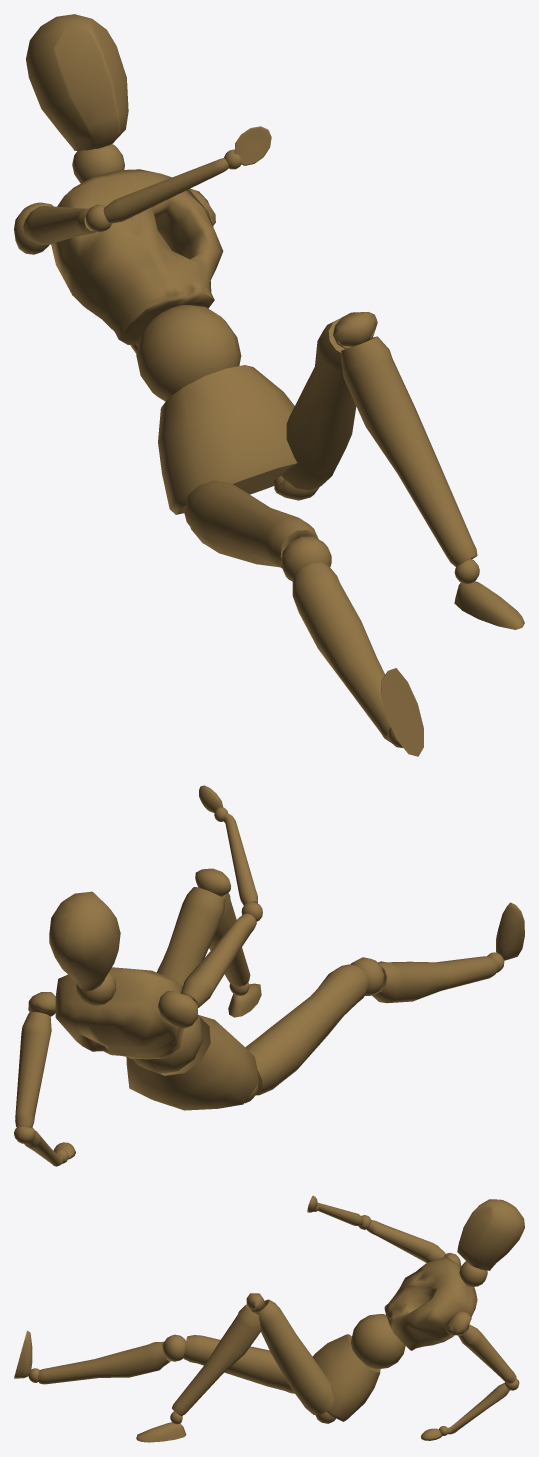
The model's file is maniqui_pose12.fbx.
3 renders of one model, top to bottom at view 1: azimuth 30°, elevation 25°; view 2: azimuth 150°, elevation 25°; view 3: azimuth 270°, elevation 25°, orthographic. The views are drawn at different scales.
Visible parts, largest first — view 1: dummy_obj.003; view 2: dummy_obj.003; view 3: dummy_obj.003.
Part boxes in pixels (box(x1,y1,x2,y2)): dummy_obj.003: box(14, 14, 524, 756); dummy_obj.003: box(14, 785, 524, 1166); dummy_obj.003: box(14, 1195, 524, 1442).
Size of the model in its own units: 46.09 by 71.71 by 150.
